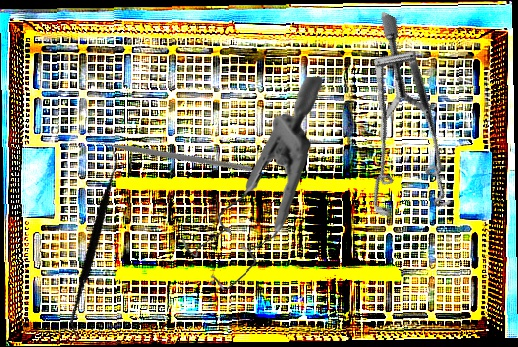Chopper: (85, 77, 254, 223)
Spatula Surgical: (22, 145, 168, 341)
Speculum: (301, 10, 515, 242), (173, 76, 333, 292)
